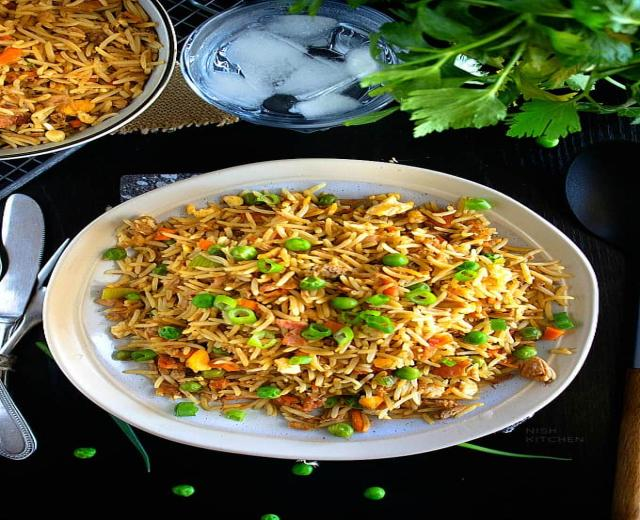fried rice: (96, 184, 572, 434), (175, 0, 623, 138), (0, 208, 94, 461), (3, 3, 163, 149)
